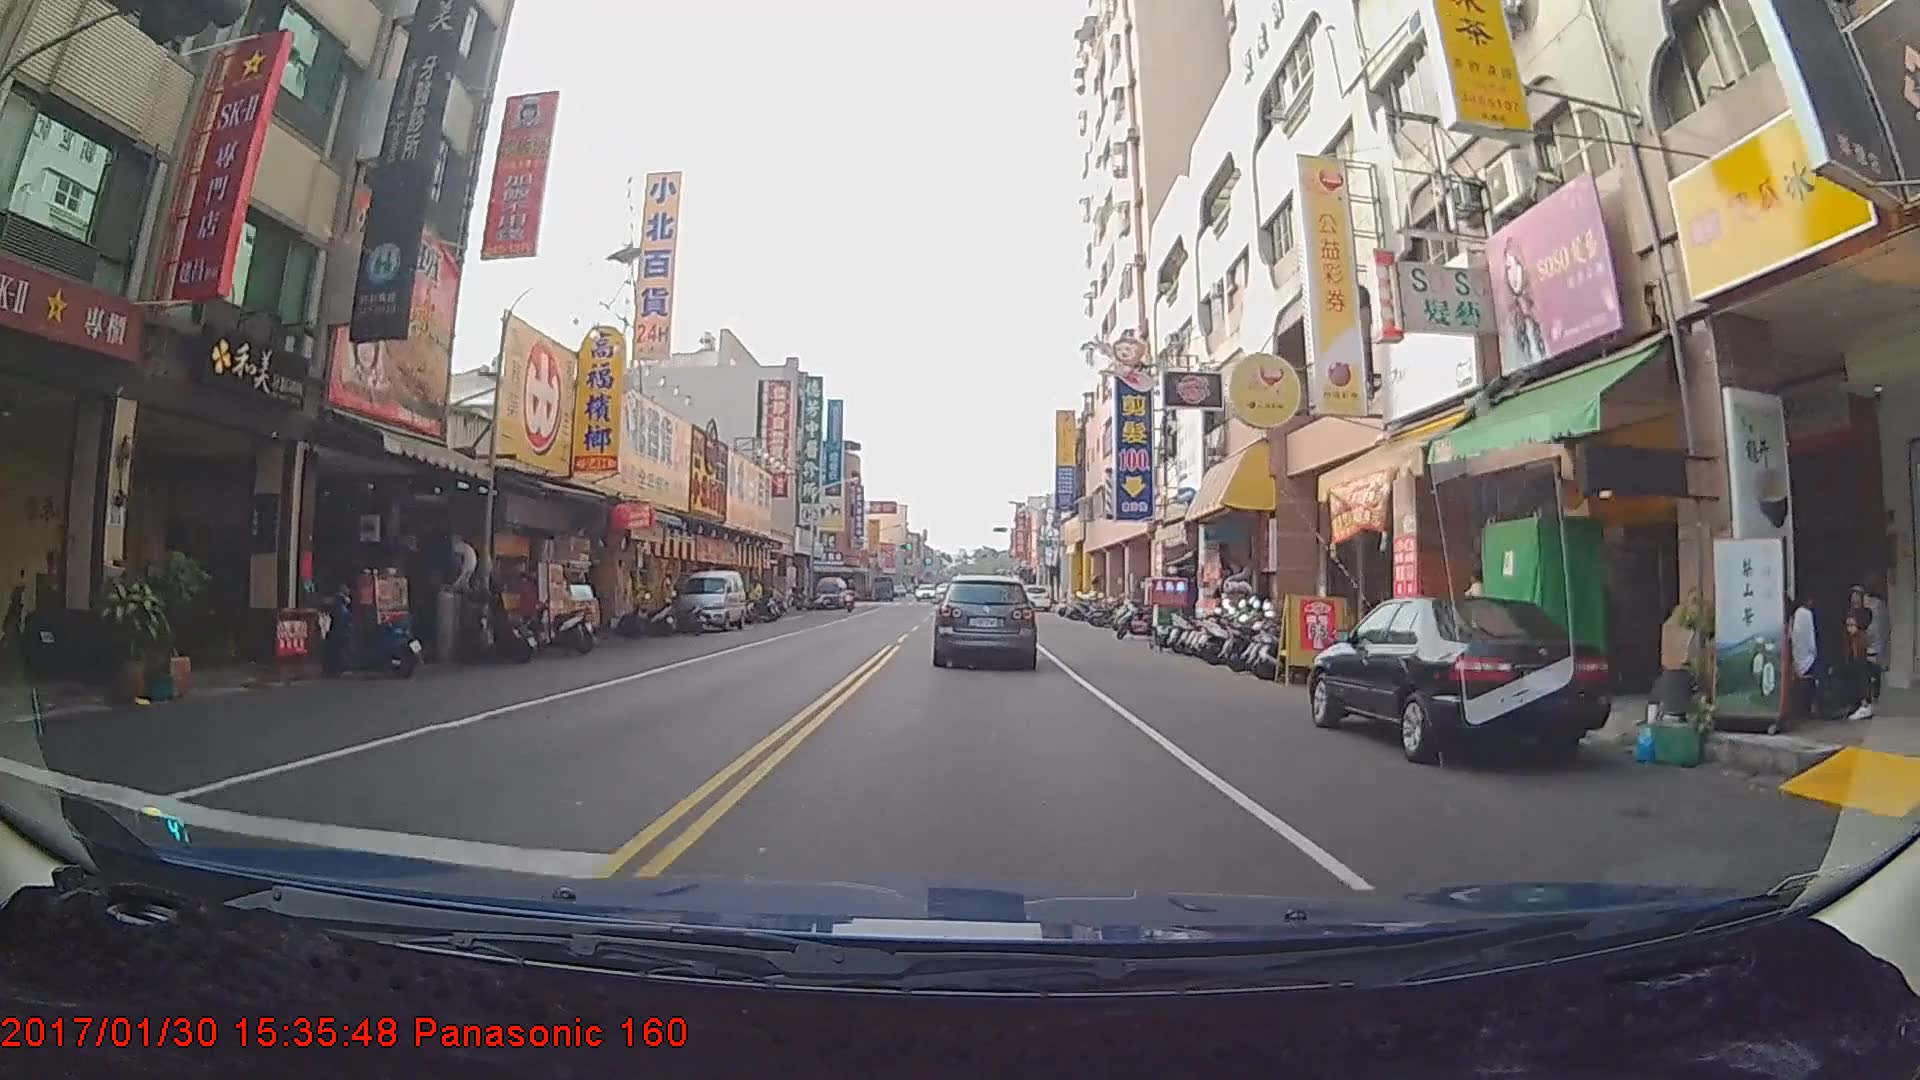pedestrian: (1789, 581, 1844, 719), (1845, 579, 1895, 722)
vehicle: (1309, 591, 1607, 762), (934, 575, 1036, 667), (674, 568, 745, 631), (814, 571, 844, 605), (1018, 577, 1050, 605)
